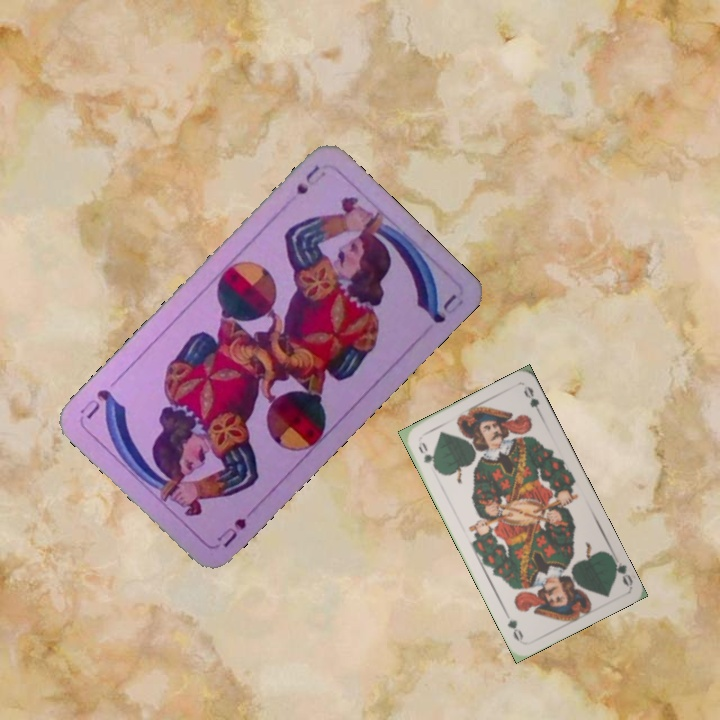GO: (605, 551, 636, 588), (414, 437, 440, 473)
SU: (292, 161, 329, 197), (212, 514, 249, 550)
